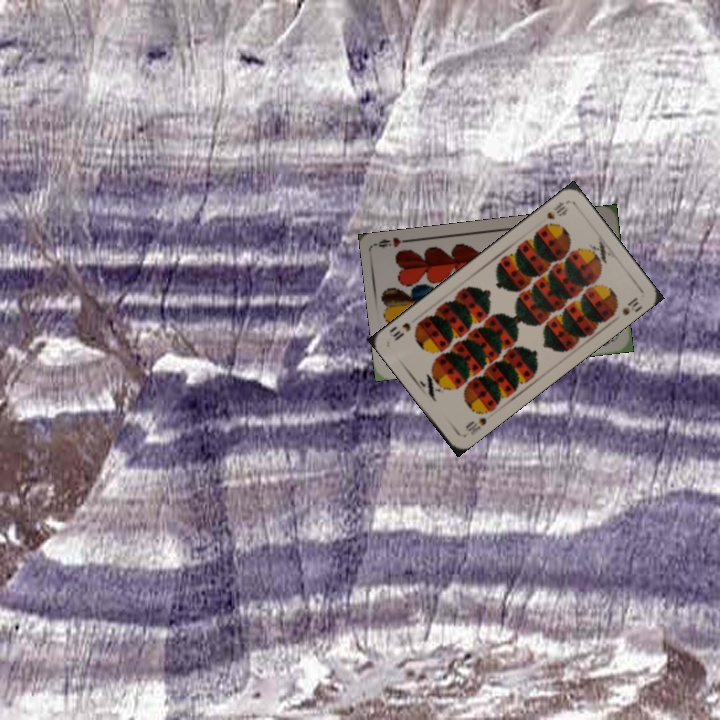S10: (542, 197, 571, 222), (461, 413, 489, 438)
